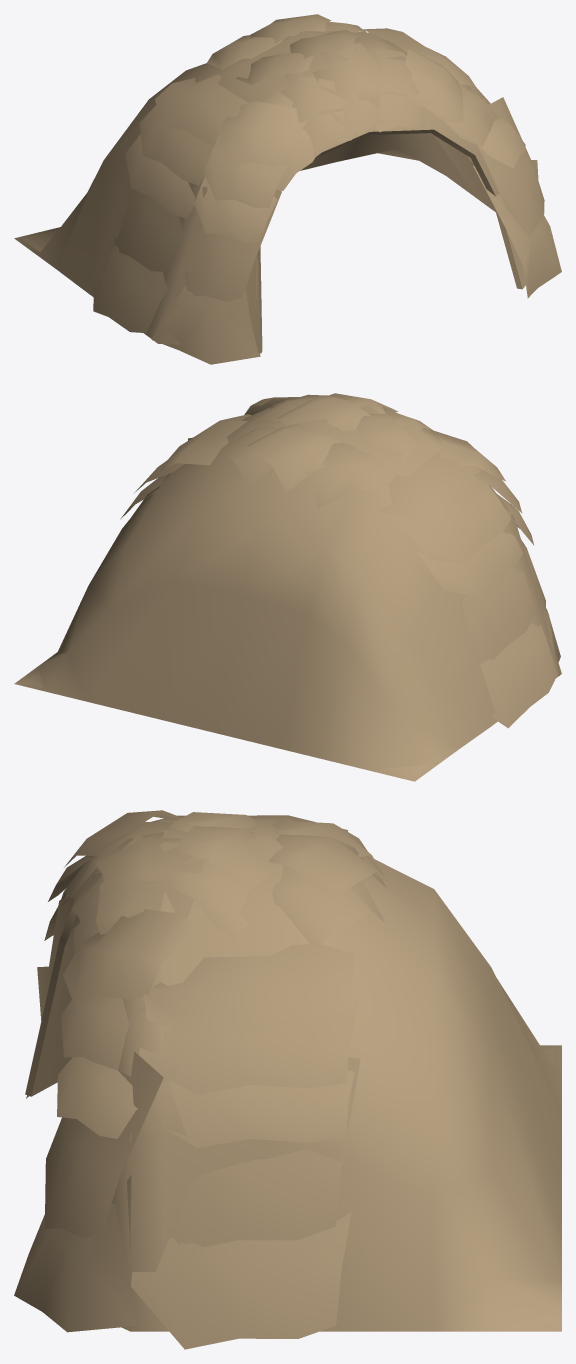
Rendered from Hut.fbx.
3 renders of one model, top to bottom at view 1: azimuth 30°, elevation 25°; view 2: azimuth 150°, elevation 25°; view 3: azimuth 270°, elevation 25°, orthographic. The views are drawn at different scales.
Parts seen in each view (by area): view 1: pPlane16; view 2: pPlane16; view 3: pPlane16.
Part boxes in pixels (x1,y1,x2,y2): pPlane16: (14,14,561,364); pPlane16: (14,393,561,781); pPlane16: (14,810,561,1349).
Size of the model in its own units: 12.41 by 6.92 by 9.37.
